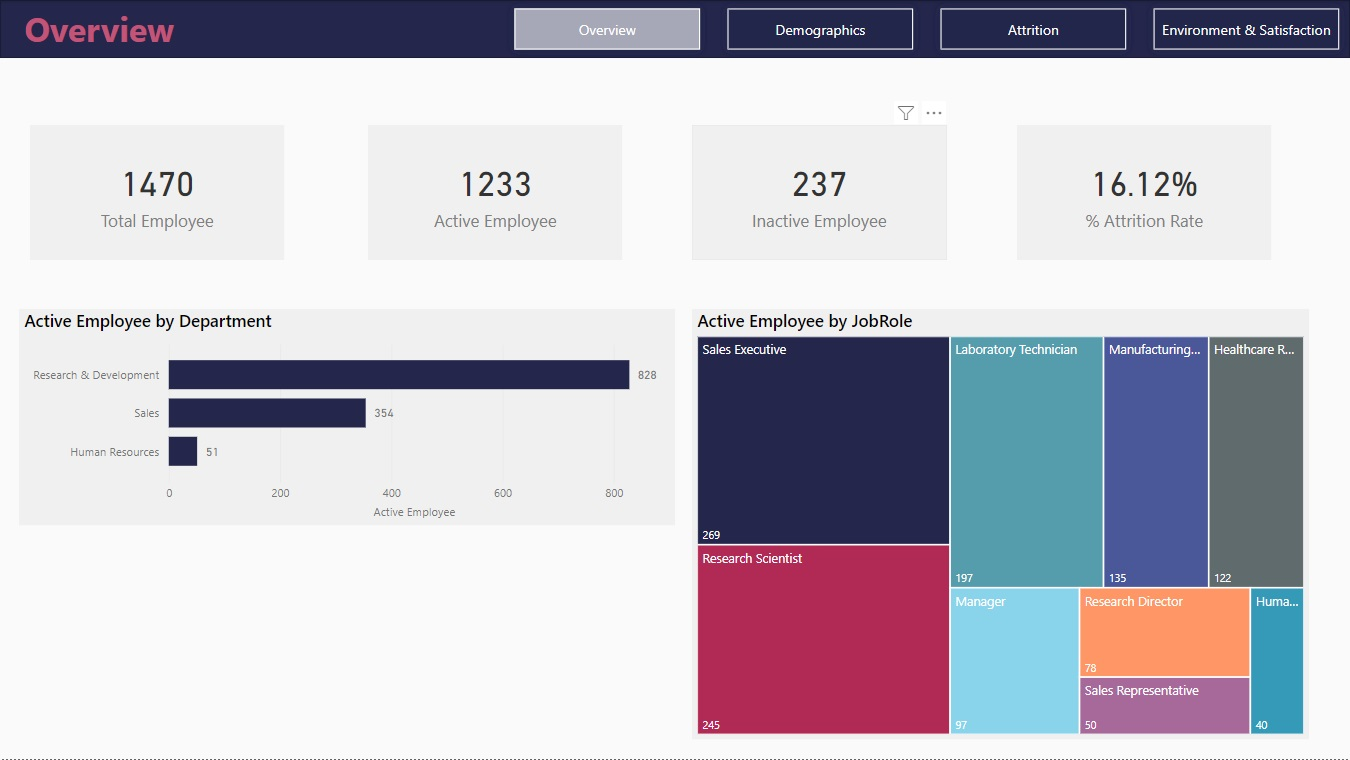

The dashboard page shown, as its layout file describes it:
{"tool":"powerbi","page":{"name":"Overview","canvas":[1280,720],"ordinal":0},"visuals":[{"type":"card","fields":{"Values":["_Measures.Total Employee"]},"box":[28,118.5,241.3,128.2],"z":0},{"type":"card","fields":{"Values":["_Measures.% Attrition Rate"]},"box":[964.3,118.5,241.3,128.2],"z":1000},{"type":"card","fields":{"Values":["_Measures.Inactive Employee"]},"box":[656.2,118.5,241.3,128.2],"z":2000},{"type":"shape","box":[0,0,1280,55],"z":3000},{"type":"card","fields":{"Values":["_Measures.Active Employee"]},"box":[349.1,118.5,241.3,128.2],"z":4000},{"type":"textbox","box":[18.3,0,179.9,58.2],"z":5000},{"type":"treemap","fields":{"Values":["_Measures.Active Employee"],"Group":["Attrition_Performance.JobRole"]},"box":[656.2,293.1,585.1,408.4],"z":6000},{"type":"clusteredBarChart","fields":{"Category":["Attrition_Performance.Department"],"Y":["_Measures.Active Employee"]},"box":[18.3,293.1,621.7,204.7],"z":7000},{"type":"pageNavigator","box":[479.5,0,800.5,55],"z":8000}]}

Visuals, with their boxes in screenshot pixels (x1, y1, x2, y2), scaled from the page's 1280x720 canvas onto the 1350x760 screenshot:
card - _Measures.Total Employee: l=30, t=125, r=284, b=260
card - _Measures.% Attrition Rate: l=1017, t=125, r=1272, b=260
card - _Measures.Inactive Employee: l=692, t=125, r=947, b=260
shape: l=0, t=0, r=1349, b=58
card - _Measures.Active Employee: l=368, t=125, r=623, b=260
textbox: l=19, t=0, r=209, b=61
treemap - _Measures.Active Employee x Attrition_Performance.JobRole: l=692, t=309, r=1309, b=740
clusteredBarChart - Attrition_Performance.Department x _Measures.Active Employee: l=19, t=309, r=675, b=525
pageNavigator: l=506, t=0, r=1349, b=58
